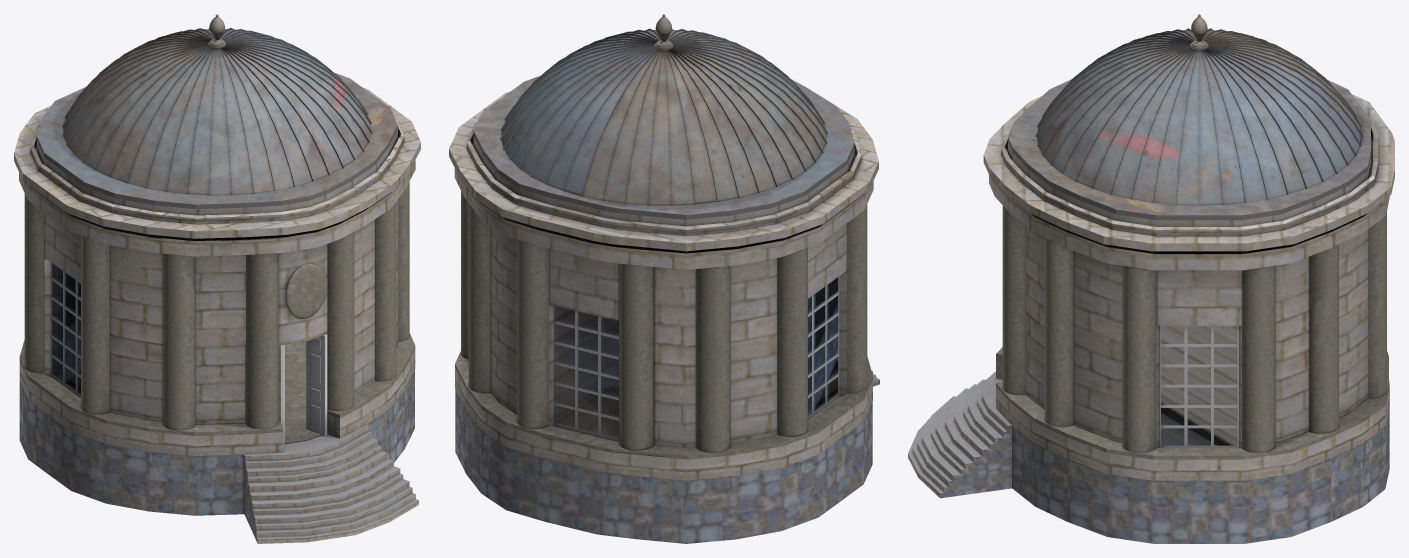
Rendered from Mussenden Temple Attempt DEWD.fbx.
3 views of the same model, side by side, from view 1: azimuth 30°, elevation 25°; view 2: azimuth 150°, elevation 25°; view 3: azimuth 270°, elevation 25° (orthographic). The views are drawn at different scales.
Visible parts, largest first — view 1: Object001, Object002; view 2: Object002, Object001; view 3: Object002, Object001.
Boxes of the visible parts, bbox=[...] form: Object001: bbox=[19, 14, 418, 543]; Object002: bbox=[14, 28, 420, 515]; Object002: bbox=[449, 28, 872, 543]; Object001: bbox=[455, 14, 879, 480]; Object002: bbox=[983, 28, 1394, 543]; Object001: bbox=[908, 14, 1388, 498].
Size of the model in its own units: 253 by 295 by 293.
2 materials, 2 textured.
